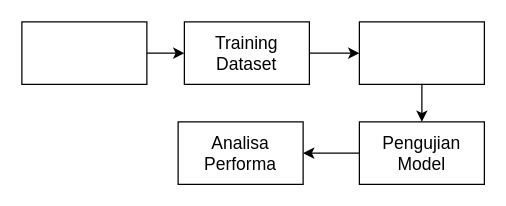
The diagram is 506 pixels wide and 206 high, and some of its shapes have lost their labels. Each missing label, with the centre of its shape:
Akuisisi Teks Berita: point 84,52
Validasi Model: point 421,52
